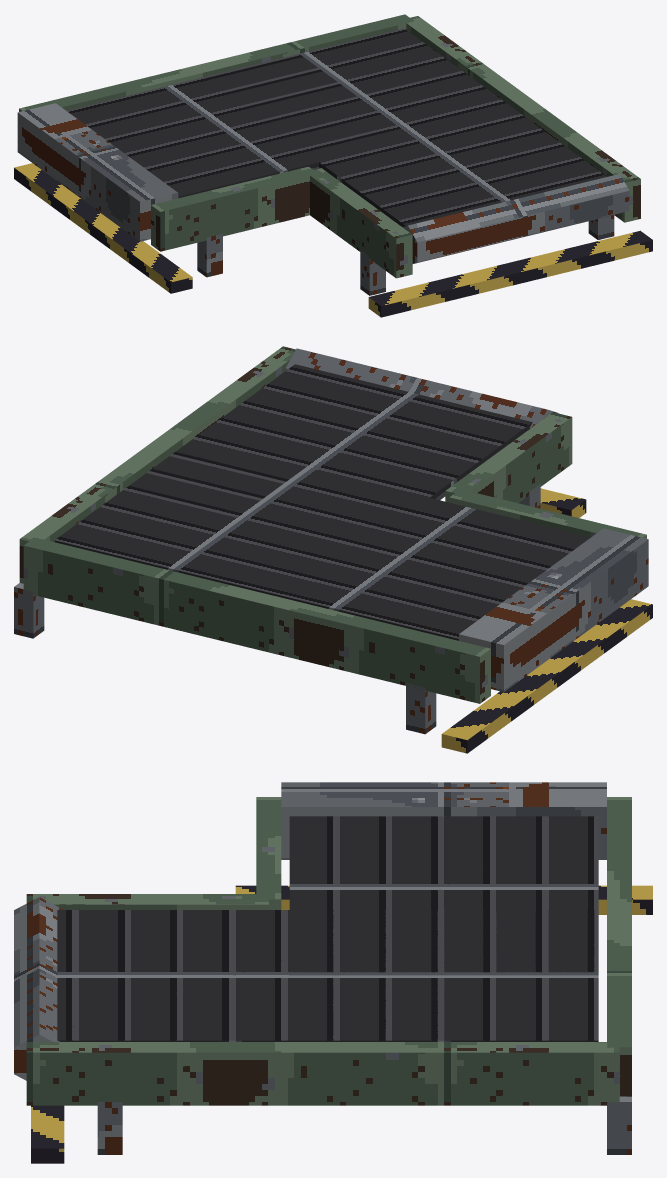
File: machinery__conveyor_corner_left.glb
3 renders of one model, top to bottom at view 1: azimuth 30°, elevation 25°; view 2: azimuth 150°, elevation 25°; view 3: azimuth 270°, elevation 25°, orthographic. The views are drawn at different scales.
Visible parts, largest first — view 1: _MeshInstance3D_56, _MeshInstance3D_58, _MeshInstance3D_55, _MeshInstance3D_57; view 2: _MeshInstance3D_56, _MeshInstance3D_58, _MeshInstance3D_55, _MeshInstance3D_57; view 3: _MeshInstance3D_56, _MeshInstance3D_58, _MeshInstance3D_55, _MeshInstance3D_57.
Boxes of the visible parts, box(x1,y1,x2,y2) form: _MeshInstance3D_56: box(66, 28, 606, 226); _MeshInstance3D_58: box(19, 14, 640, 278); _MeshInstance3D_55: box(17, 103, 629, 295); _MeshInstance3D_57: box(14, 163, 652, 317); _MeshInstance3D_56: box(54, 364, 590, 640); _MeshInstance3D_58: box(19, 346, 646, 703); _MeshInstance3D_55: box(14, 348, 648, 734); _MeshInstance3D_57: box(441, 488, 652, 753); _MeshInstance3D_56: box(57, 816, 598, 1041); _MeshInstance3D_58: box(26, 797, 631, 1105); _MeshInstance3D_55: box(14, 782, 631, 1154); _MeshInstance3D_57: box(31, 885, 652, 1163).
Size of the model in its own units: 1.54 by 0.29 by 1.53.
Materials: 4 (4 with a texture image).
